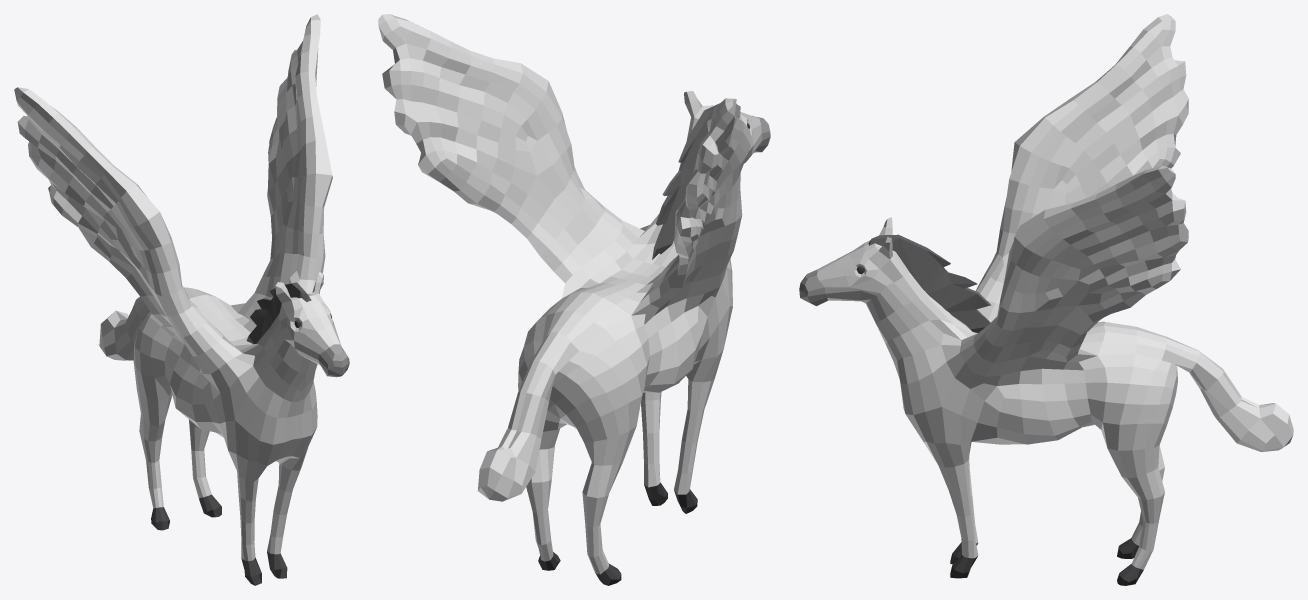
File: animal_009.fbx
3 renders of one model, left to right at view 1: azimuth 30°, elevation 25°; view 2: azimuth 150°, elevation 25°; view 3: azimuth 270°, elevation 25°, orthographic. The views are drawn at different scales.
Parts seen in each view (by area): view 1: animal.009; view 2: animal.009; view 3: animal.009.
Boxes of the visible parts, x1,y1,x2,y2 form: animal.009: [14, 14, 349, 585]; animal.009: [378, 14, 770, 585]; animal.009: [799, 14, 1293, 585].
Size of the model in its own units: 346 by 498 by 466.
Materials: 1 (1 with a texture image).
